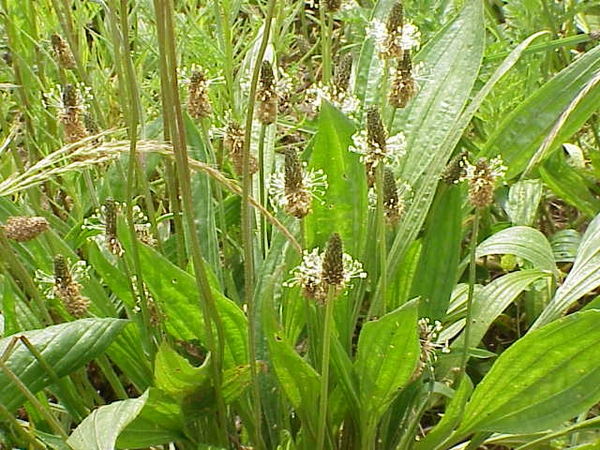buckhorn plantain: (18, 21, 561, 450)
